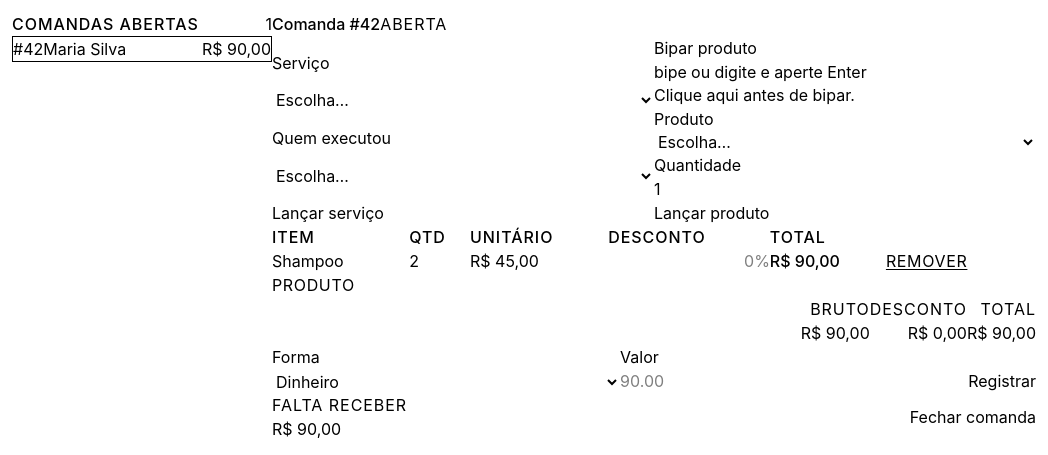
Test: tela de fechamento › bipar o código escolhe o produto, e lançar continua sendo do humano
Type "7891234567895" into the field labelled "Bipar produto" at (845, 72), box x1=654 y1=60 x2=1036 y2=84
Then press Enter
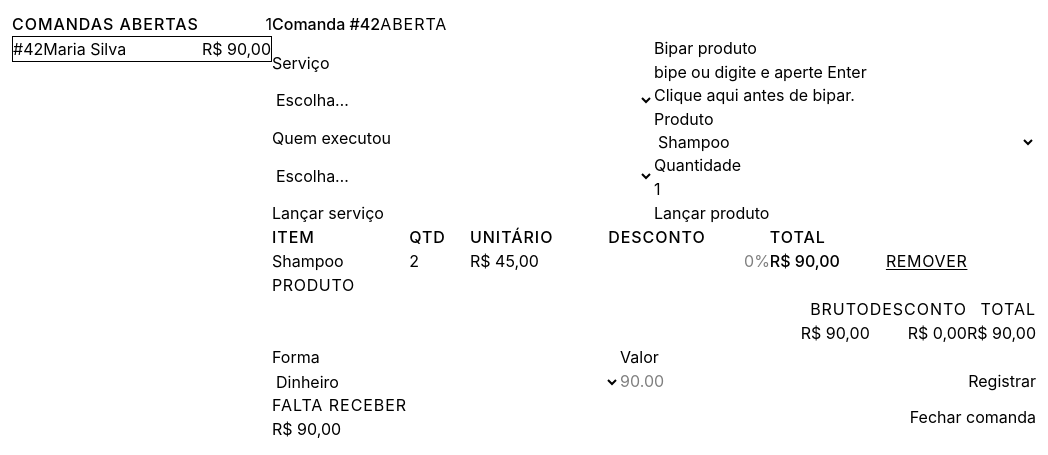
Result: the dropdown labelled "Produto" shows "Shampoo" at x1=654 y1=131 x2=1036 y2=153
